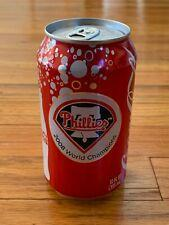metal: (37, 18, 137, 198)
